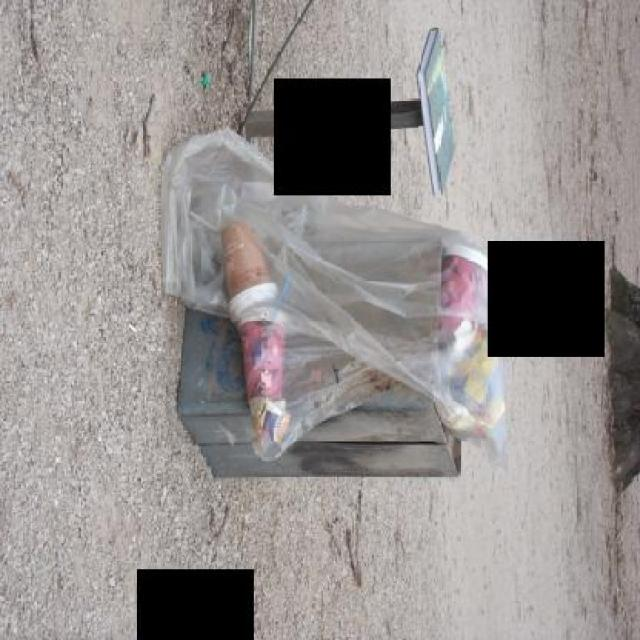plastic bag: (158, 122, 508, 476)
